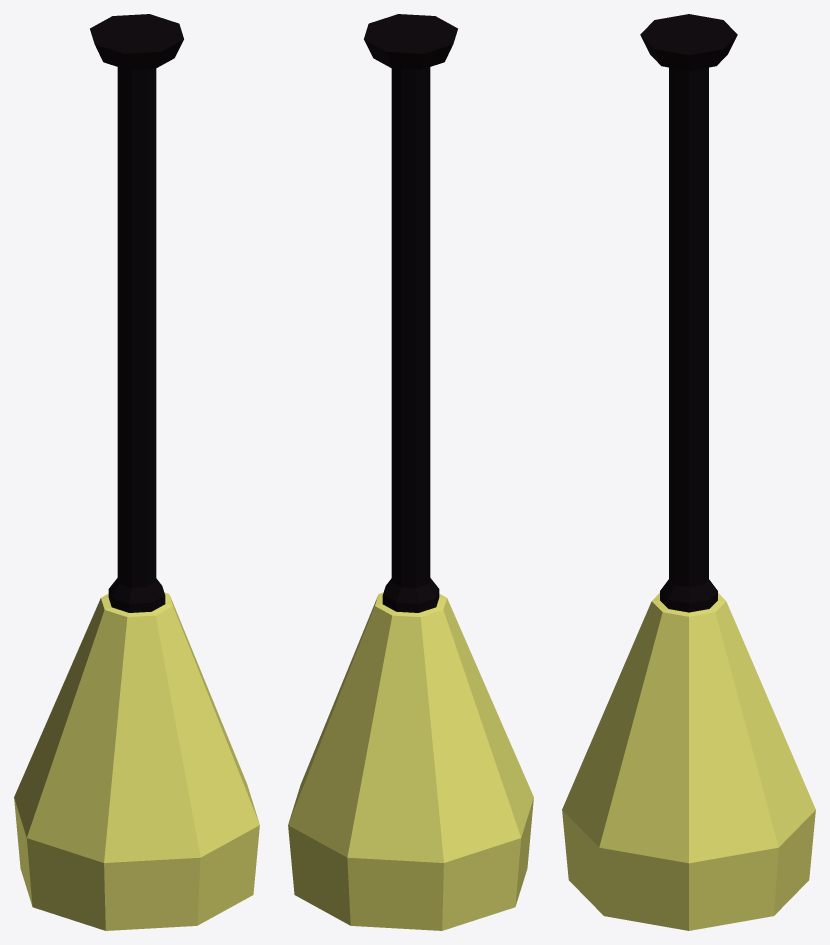
Rendered from Hanging lamp.fbx.
The picture shows the model from 3 angles, left to right: view 1: azimuth 30°, elevation 25°; view 2: azimuth 150°, elevation 25°; view 3: azimuth 270°, elevation 25°; orthographic projection.
Visible parts, largest first — view 1: Cone.001, Cylinder; view 2: Cone.001, Cylinder; view 3: Cone.001, Cylinder.
Part boxes in pixels (bbox=[...]): Cone.001: bbox=[14, 592, 259, 930]; Cylinder: bbox=[90, 14, 183, 612]; Cone.001: bbox=[288, 592, 533, 930]; Cylinder: bbox=[364, 14, 457, 612]; Cone.001: bbox=[562, 593, 815, 930]; Cylinder: bbox=[640, 14, 737, 612].
Bounding box in the file's own units: 230 × 846 × 230.
